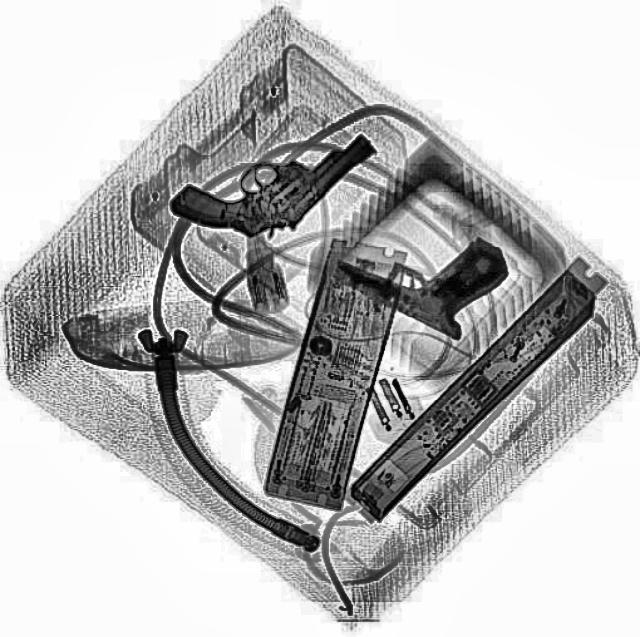Gun: (162, 78, 376, 276), (324, 186, 518, 346)
